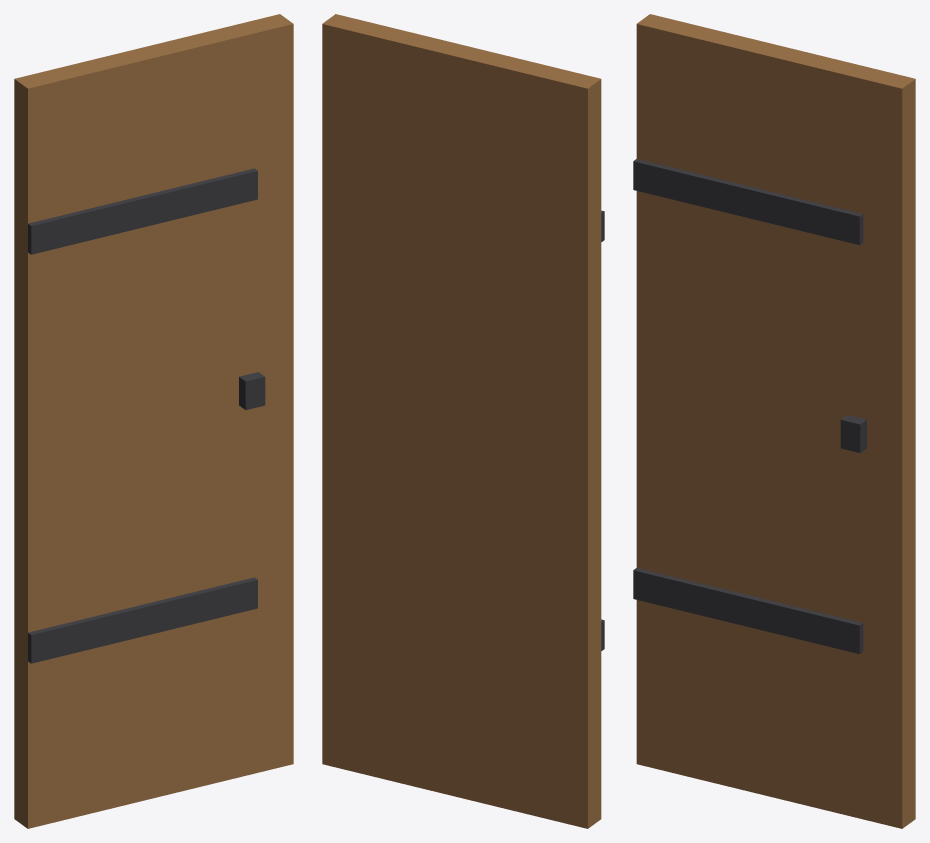
File: Door.fbx
3 renders of one model, left to right at view 1: azimuth 30°, elevation 25°; view 2: azimuth 150°, elevation 25°; view 3: azimuth 330°, elevation 25°, orthographic.
Parts seen in each view (by area): view 1: Kit_Door; view 2: Kit_Door; view 3: Kit_Door.
Part boxes in pixels (box(x1,y1,x2,y2)): Kit_Door: box(14, 14, 293, 828); Kit_Door: box(322, 14, 604, 828); Kit_Door: box(633, 14, 915, 828).
Size of the model in its own units: 0.68 by 1.81 by 0.09.
